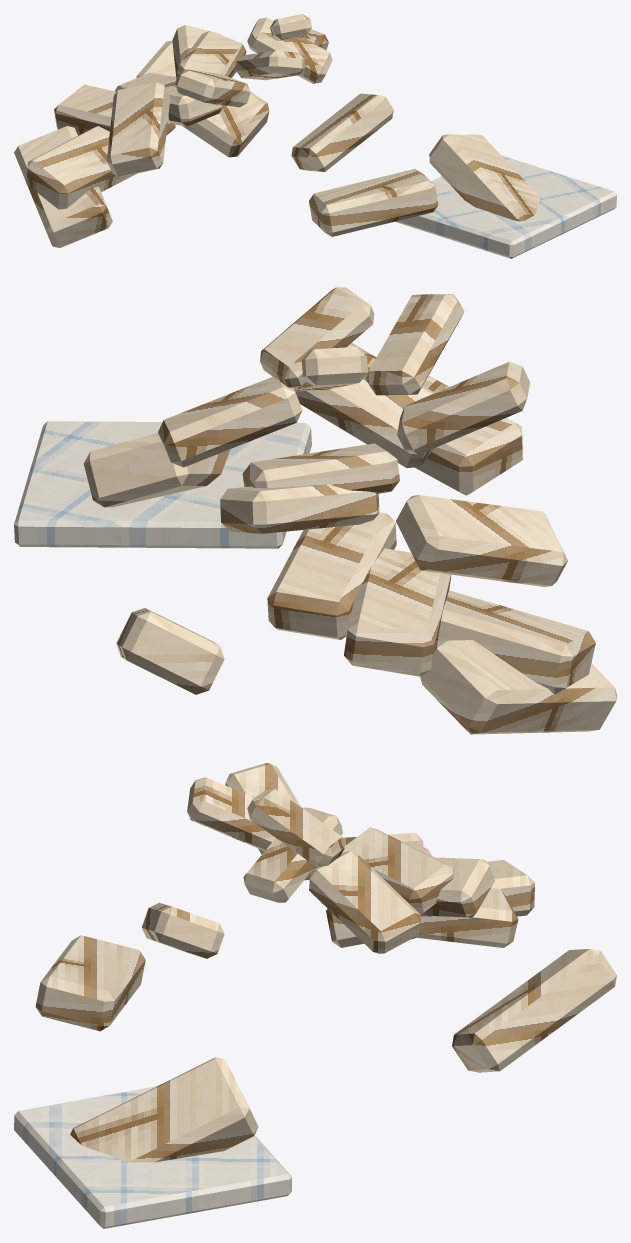
Rendered from tower_rubble.glb.
The picture shows the model from 3 angles, top to bottom: view 1: azimuth 30°, elevation 25°; view 2: azimuth 150°, elevation 25°; view 3: azimuth 270°, elevation 25°; orthographic projection. The views are drawn at different scales.
Visible parts, largest first — view 1: Rubble; view 2: Rubble; view 3: Rubble.
Boxes of the visible parts, x1,y1,x2,y2 form: Rubble: [14, 14, 616, 258]; Rubble: [14, 287, 616, 734]; Rubble: [14, 763, 616, 1228].
Size of the model in its own units: 1.7 by 0.7869 by 1.45.
2 materials, 2 textured.
